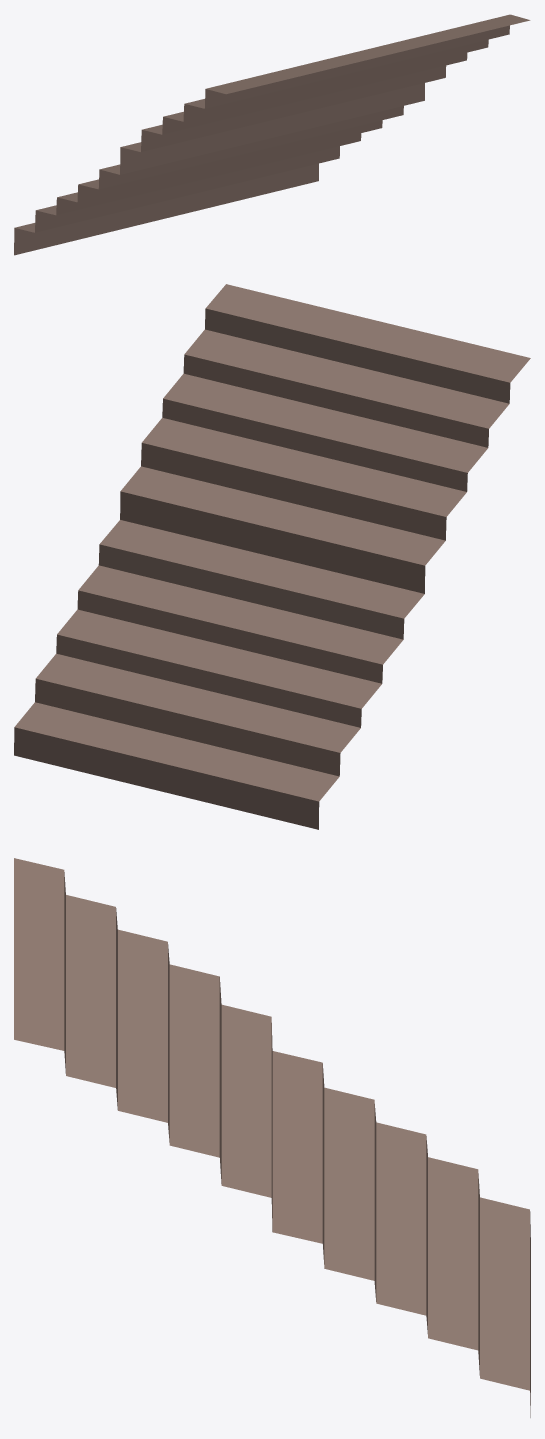
Rendered from bg_seats_02.fbx.
3 views of the same model, one above another, from view 1: azimuth 30°, elevation 25°; view 2: azimuth 150°, elevation 25°; view 3: azimuth 270°, elevation 25° (orthographic). The views are drawn at different scales.
Visible parts, largest first — view 1: bg_seats_02; view 2: bg_seats_02; view 3: bg_seats_02.
Boxes of the visible parts, <box> form: bg_seats_02: <box>14,14,530,255</box>; bg_seats_02: <box>14,284,530,829</box>; bg_seats_02: <box>14,858,530,1417</box>.
Bounding box in the file's own units: 1191 × 1181 × 1435.
